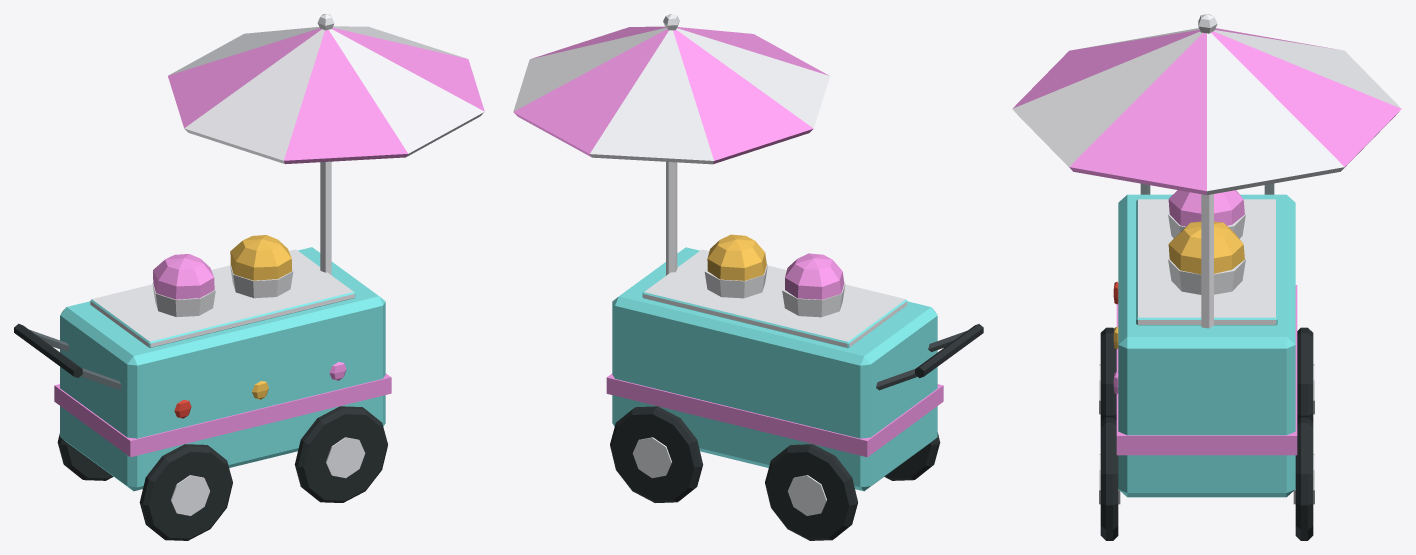
Rendered from iceCart.glb.
3 renders of one model, left to right at view 1: azimuth 30°, elevation 25°; view 2: azimuth 150°, elevation 25°; view 3: azimuth 270°, elevation 25°, orthographic. The views are drawn at different scales.
Parts seen in each view (by area): view 1: iceCart-m; view 2: iceCart-m; view 3: iceCart-m.
Boxes of the visible parts, <box> form: iceCart-m: <box>14,14,484,540</box>; iceCart-m: <box>513,14,983,540</box>; iceCart-m: <box>1012,14,1401,540</box>.
Bounding box in the file's own units: 3.28 × 3.34 × 2.2.
